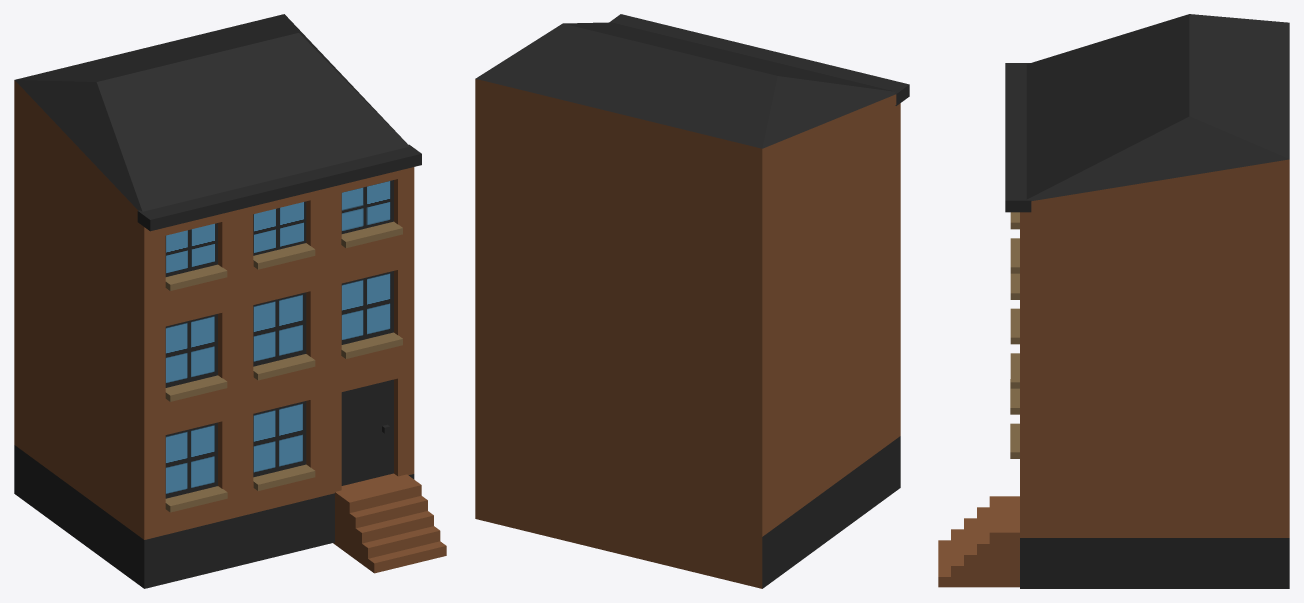
Rendered from JazzNormal1.obj.
The picture shows the model from 3 angles, left to right: view 1: azimuth 30°, elevation 25°; view 2: azimuth 150°, elevation 25°; view 3: azimuth 270°, elevation 25°; orthographic projection. The views are drawn at different scales.
Parts seen in each view (by area): view 1: ZwyklyZwykly; view 2: ZwyklyZwykly; view 3: ZwyklyZwykly.
Part boxes in pixels (x1,y1,x2,y2): ZwyklyZwykly: [14, 14, 446, 588]; ZwyklyZwykly: [475, 14, 909, 588]; ZwyklyZwykly: [938, 14, 1289, 588].
Size of the model in its own units: 6.04 by 9.37 by 6.52.
